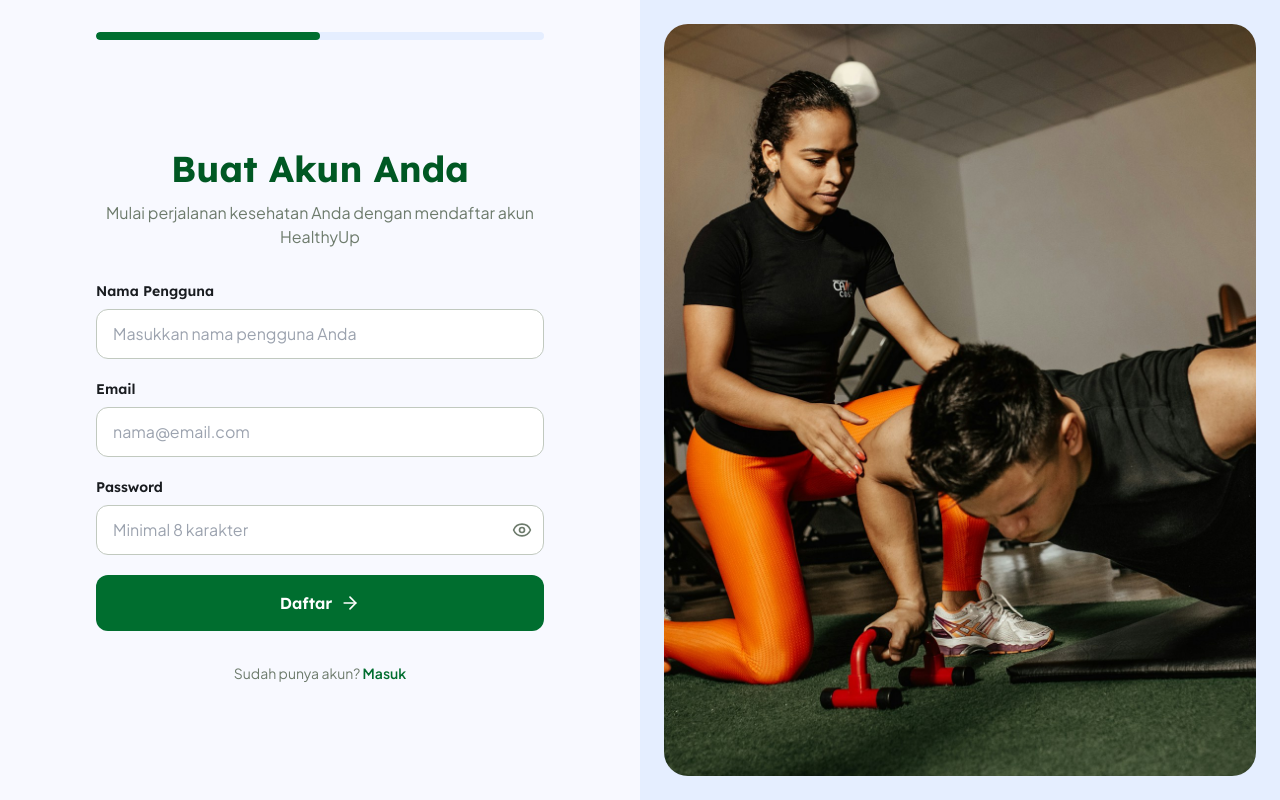
Onboarding Page › menampilkan error format email tidak valid
In the field with placeholder "Masukkan nama pengguna Anda": (320, 334) [96,309,544,359], type "John Doe"
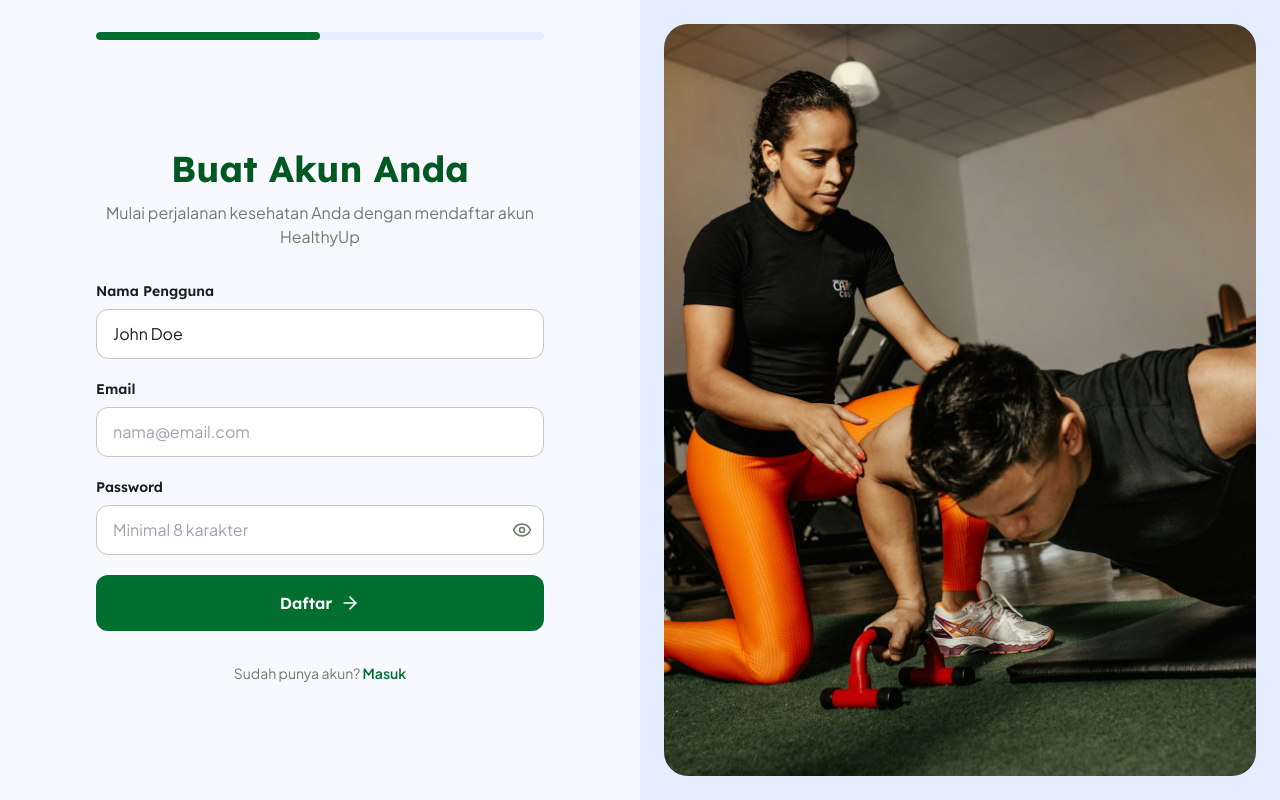
In the field with placeholder "nama@email.com": (320, 432) [96,407,544,457], type "bukan-email"
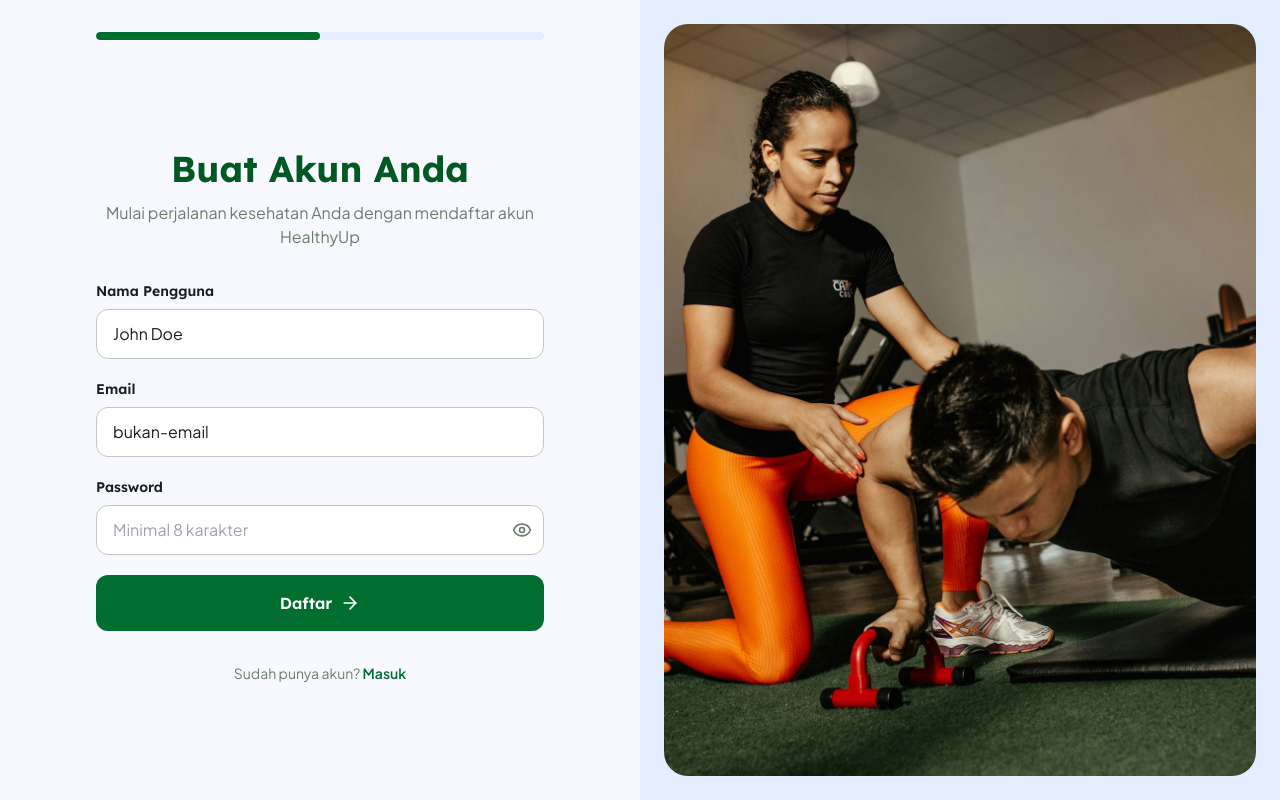
Click the button "Daftar": (320, 603) [96,575,544,631]
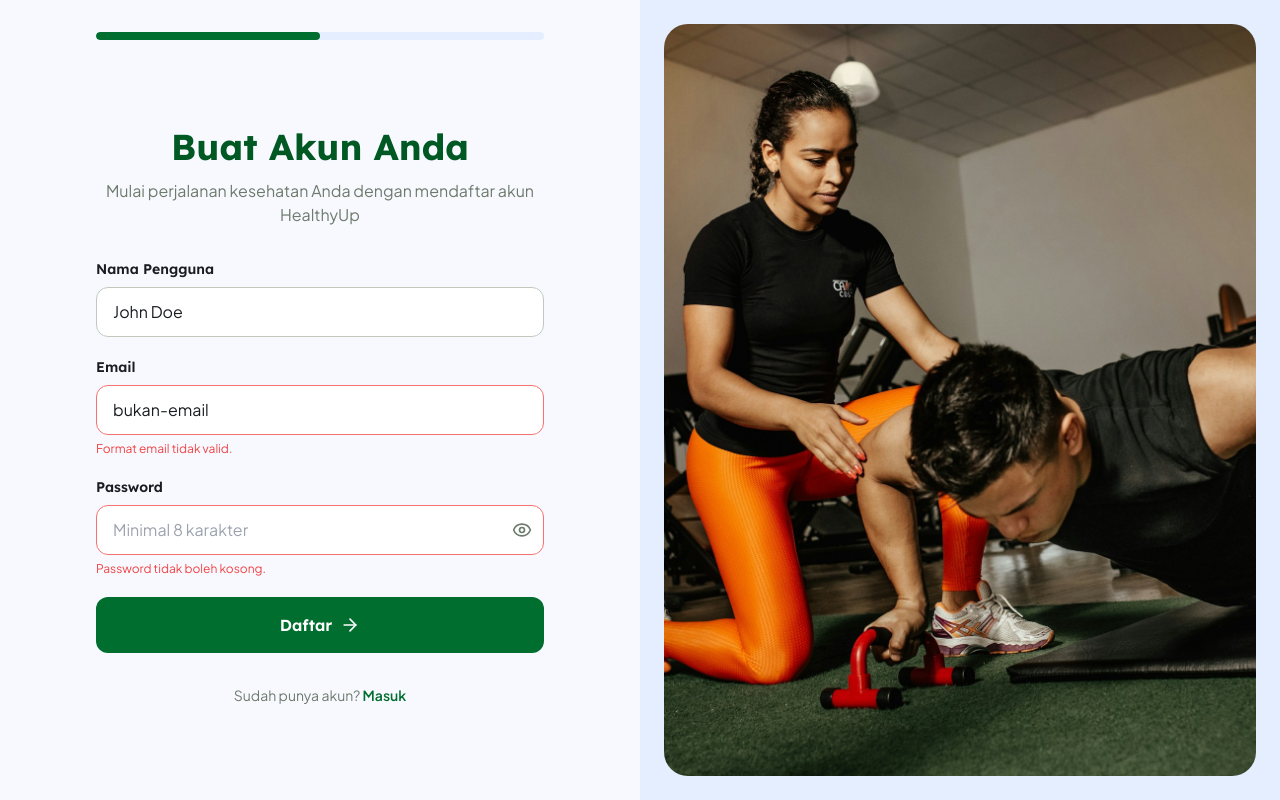
Result: the text "Format email tidak valid." is shown at [96,441,232,456]
